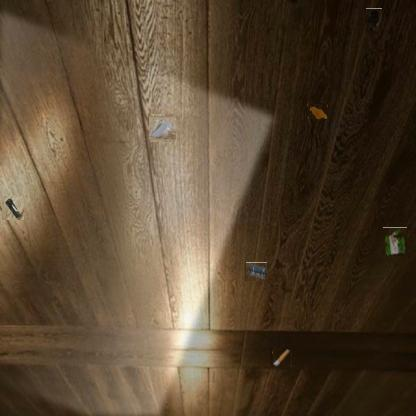dirty: (383, 227, 407, 256), (149, 115, 175, 141), (2, 196, 24, 220), (245, 262, 267, 281), (271, 348, 291, 368)
liquid: (366, 8, 382, 31), (308, 104, 328, 119)
